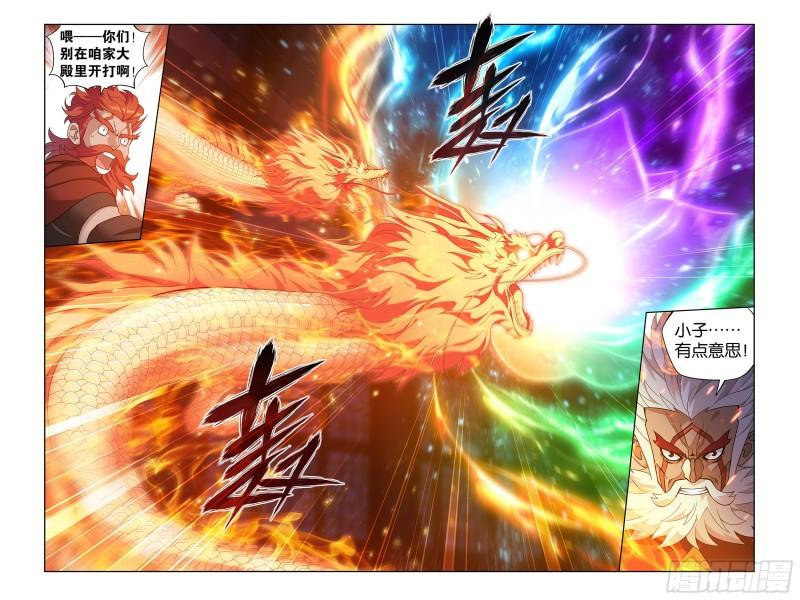boxBomb: (46, 22, 150, 90)
boxEllipse: (662, 306, 756, 384)
minBox: (38, 20, 760, 576), (614, 300, 760, 574), (40, 20, 172, 250)
